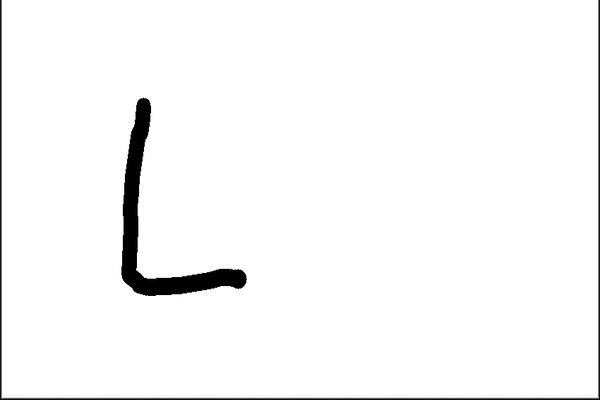L: (114, 90, 254, 298)
